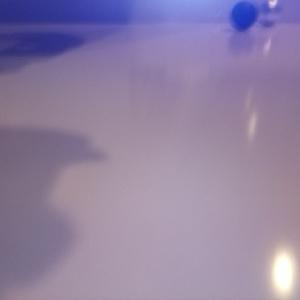alive_ball: (258, 1, 282, 26)
dead_ball: (230, 1, 258, 31)
